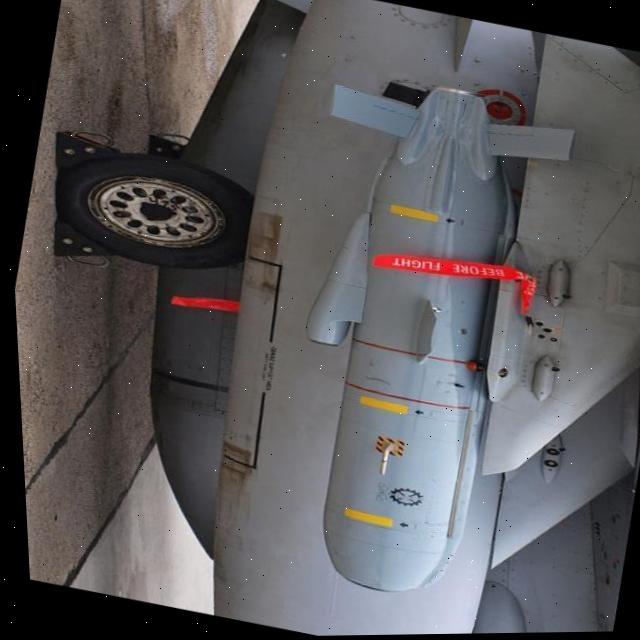missile: (246, 72, 560, 613)
